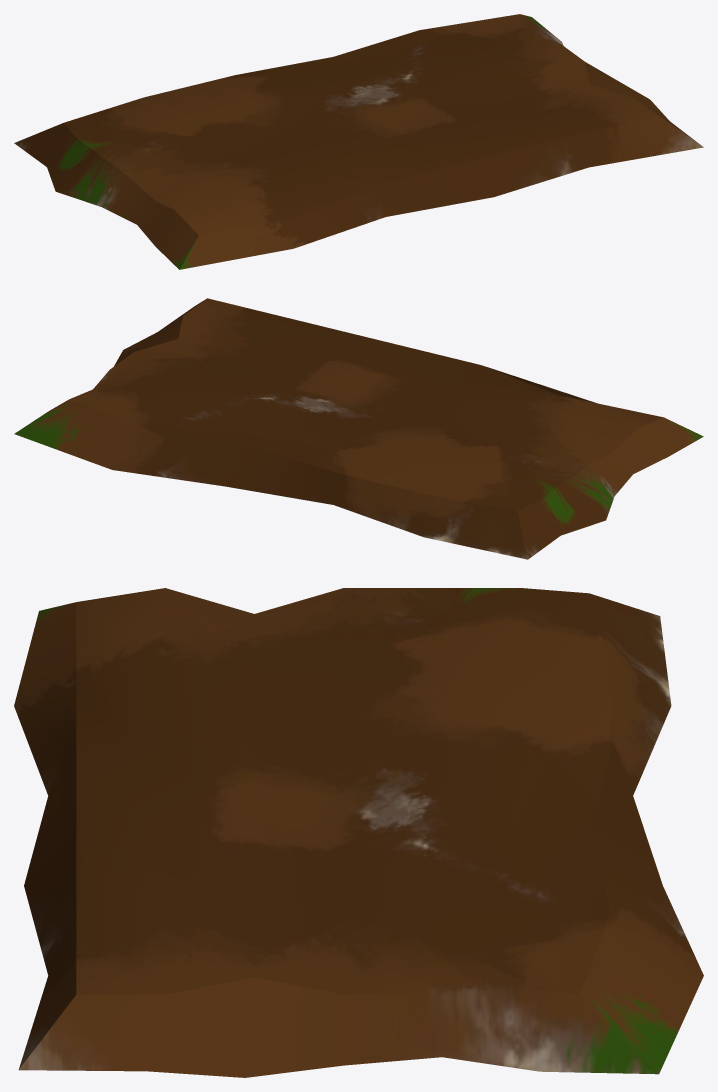
The model's file is tierra_tumba.fbx.
3 renders of one model, top to bottom at view 1: azimuth 30°, elevation 25°; view 2: azimuth 150°, elevation 25°; view 3: azimuth 270°, elevation 25°, orthographic. The views are drawn at different scales.
Visible parts, largest first — view 1: Tumba:pCube3; view 2: Tumba:pCube3; view 3: Tumba:pCube3.
Part boxes in pixels (box(x1,y1,x2,y2)): Tumba:pCube3: box(14, 14, 703, 269); Tumba:pCube3: box(14, 298, 703, 559); Tumba:pCube3: box(14, 588, 703, 1077).
Bounding box in the file's own units: 3.4 × 0.2117 × 2.08.
